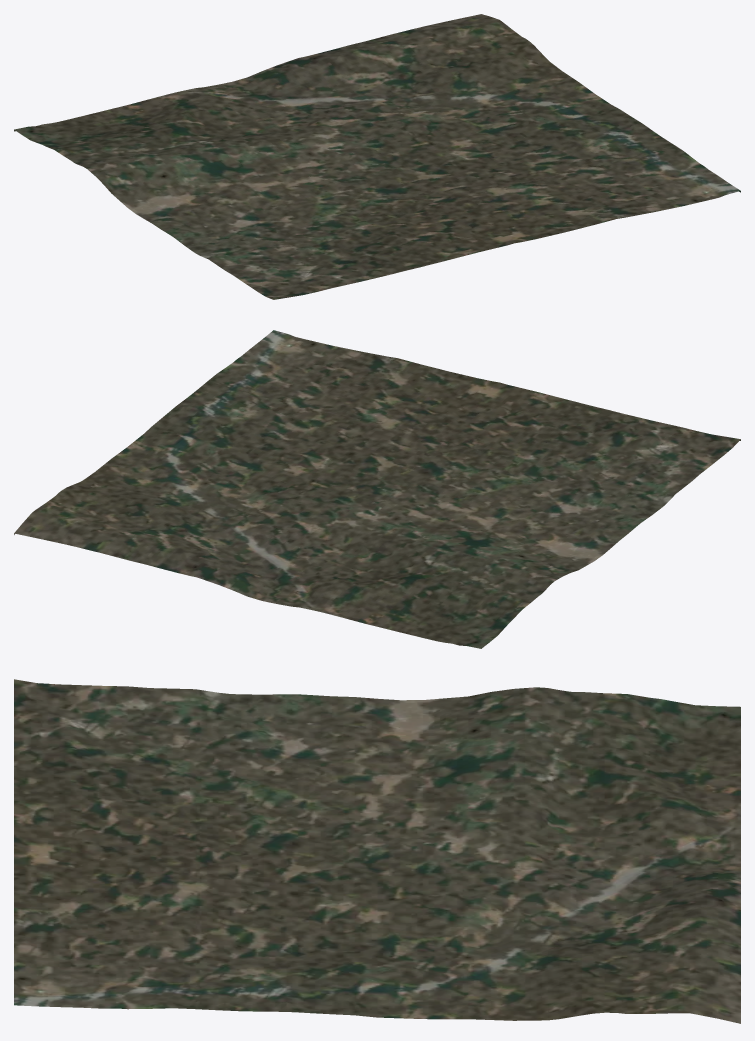
3 views of the same model, one above another, from view 1: azimuth 30°, elevation 25°; view 2: azimuth 150°, elevation 25°; view 3: azimuth 270°, elevation 25° (orthographic). The views are drawn at different scales.
Bounding box in the file's own units: 250 × 13.86 × 241.
1 material, 1 textured.
